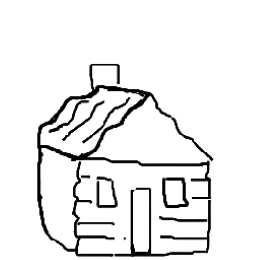bottom_placed_house: (1, 1, 260, 260)
chimney: (86, 53, 128, 98)
door: (126, 179, 160, 257)
open_window: (155, 175, 199, 212), (88, 175, 120, 212)
roof: (26, 79, 218, 174)
wall: (67, 150, 223, 259)
